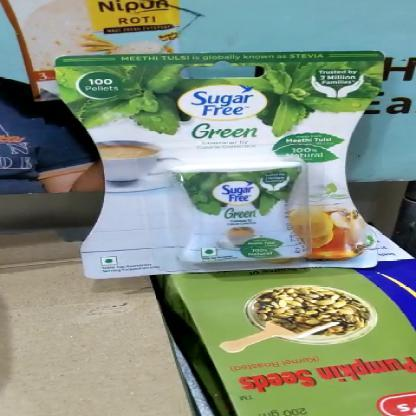SUGAR FREE GRN 300 PELLET: (57, 48, 382, 278)
